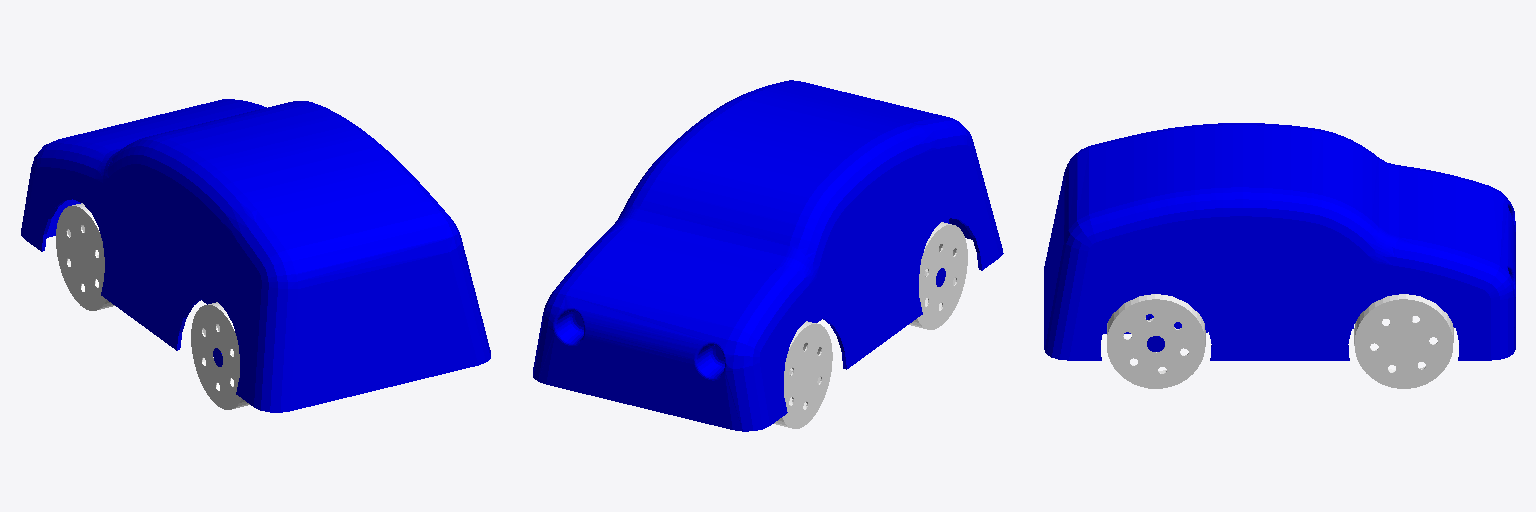
The robot description file, URDF, robot "robot_car":
<?xml version="1.0" encoding="utf-8"?>
<!-- This URDF was automatically created by SolidWorks to URDF Exporter! Originally created by [author] ([email redacted]) 
     Commit Version: 1.6.0-4-g7f85cfe  Build Version: 1.6.7995.38578
     For more information, please see http://wiki.ros.org/sw_urdf_exporter -->
<robot
  name="robot_car">

  <link name="dummy_link" />

  <joint name="dummy_link_joint=" type="fixed">
    <origin
      xyz="0 0 0"
      rpy="0 0 0" />
    <parent link="dummy_link"/>
    <child link="base_link"/>
  </joint>

  <link
    name="base_link">
    <inertial>
      <origin
        xyz="-4.17816467845711E-06 0.155033500569797 0.0634993481602697"
        rpy="0 0 0" />
      <mass
        value="47.0663452295482" />
      <inertia
        ixx="4.22292908692067"
        ixy="-3.82540713050327E-05"
        ixz="2.17423066283378E-05"
        iyy="0.534699589034657"
        iyz="0.0172908433530719"
        izz="4.57389499567577" />
    </inertial>
    <visual>
      <origin
        xyz="0 0 0"
        rpy="0 0 0" />
      <geometry>
        <mesh
          filename="package://robot_car/meshes/base_link.STL" />
      </geometry>
      <material
        name="">
        <color
          rgba="0.0 0.0 1 1" />
      </material>
    </visual>
    <collision>
      <origin
        xyz="0 0 0"
        rpy="0 0 0" />
      <geometry>
        <mesh
          filename="package://robot_car/meshes/base_link.STL" />
      </geometry>
    </collision>
  </link>
  <link
    name="r_axle_link">
    <inertial>
      <origin
        xyz="0.044591 3.0732E-09 -0.044308"
        rpy="0 0 0" />
      <mass
        value="0.54732" />
      <inertia
        ixx="0.00019657"
        ixy="1.012E-10"
        ixz="0.00015844"
        iyy="0.0011746"
        iyz="-1.0367E-11"
        izz="0.0010774" />
    </inertial>
    <visual>
      <origin
        xyz="0 0 0"
        rpy="0 0 0" />
      <geometry>
        <mesh
          filename="package://robot_car/meshes/r_axle_link.STL" />
      </geometry>
      <material
        name="">
        <color
          rgba="1 1 1 1" />
      </material>
    </visual>
    <collision>
      <origin
        xyz="0 0 0"
        rpy="0 0 0" />
      <geometry>
        <mesh
          filename="package://robot_car/meshes/r_axle_link.STL" />
      </geometry>
    </collision>
  </link>
  <joint
    name="r_axle_joint"
    type="revolute">
    <origin
      xyz="0.1016 0.43592 0.0762"
      rpy="0 0 0" />
    <parent
      link="base_link" />
    <child
      link="r_axle_link" />
    <axis
      xyz="0 0 1" />
    <limit
      lower="-0.61"
      upper="0.61"
      effort="1000"
      velocity="0.5" />
  </joint>
  <link
    name="fr_wheel_link">
    <inertial>
      <origin
        xyz="5.5511E-17 2.4286E-17 -0.030426"
        rpy="0 0 0" />
      <mass
        value="1.0025" />
      <inertia
        ixx="0.0043607"
        ixy="-1.124E-18"
        ixz="8.2114E-19"
        iyy="0.0043607"
        iyz="-5.2661E-19"
        izz="0.0075093" />
    </inertial>
    <visual>
      <origin
        xyz="0 0 0"
        rpy="0 0 0" />
      <geometry>
        <mesh
          filename="package://robot_car/meshes/fr_wheel_link.STL" />
      </geometry>
      <material
        name="">
        <color
          rgba="1 1 1 1" />
      </material>
    </visual>
    <collision>
      <origin
        xyz="0 0 0"
        rpy="0 0 0" />
      <geometry>
        <mesh
          filename="package://robot_car/meshes/fr_wheel_link.STL" />
      </geometry>
    </collision>
  </link>
  <joint
    name="fr_wheel_joint"
    type="continuous">
    <origin
      xyz="0.127 0 -0.0508"
      rpy="1.5708 0 1.5708" />
    <parent
      link="r_axle_link" />
    <child
      link="fr_wheel_link" />
    <axis
      xyz="0 0 1" />
    <limit
      effort="1"
      velocity="1000" />
  </joint>
  <link
    name="l_axle_link">
    <inertial>
      <origin
        xyz="-0.0445911447038466 -3.07316860848061E-09 -0.0443082836786182"
        rpy="0 0 0" />
      <mass
        value="0.547317633847802" />
      <inertia
        ixx="0.000196574365269895"
        ixy="1.01203737038273E-10"
        ixz="-0.000158436445636198"
        iyy="0.0011746456902795"
        iyz="1.03666036366386E-11"
        izz="0.00107738190106747" />
    </inertial>
    <visual>
      <origin
        xyz="0 0 0"
        rpy="0 0 0" />
      <geometry>
        <mesh
          filename="package://robot_car/meshes/l_axle_link.STL" />
      </geometry>
      <material
        name="">
        <color
          rgba="1 1 1 1" />
      </material>
    </visual>
    <collision>
      <origin
        xyz="0 0 0"
        rpy="0 0 0" />
      <geometry>
        <mesh
          filename="package://robot_car/meshes/l_axle_link.STL" />
      </geometry>
    </collision>
  </link>
  <joint
    name="l_axle_joint"
    type="revolute">
    <origin
      xyz="-0.1016 0.43592 0.0762"
      rpy="0 0 0" />
    <parent
      link="base_link" />
    <child
      link="l_axle_link" />
    <axis
      xyz="0 0 1" />
    <limit
      lower="-0.61"
      upper="0.61"
      effort="1000"
      velocity="0.5" />
  </joint>
  <link
    name="fl_wheel_link">
    <inertial>
      <origin
        xyz="-1.66533453693773E-16 -6.93889390390723E-18 -0.0304263623336742"
        rpy="0 0 0" />
      <mass
        value="1.00248274433347" />
      <inertia
        ixx="0.0043607050487617"
        ixy="-8.55490495270943E-20"
        ixz="-3.06179300718463E-19"
        iyy="0.0043607050487617"
        iyz="3.75228321009424E-20"
        izz="0.00750931140654651" />
    </inertial>
    <visual>
      <origin
        xyz="0 0 0"
        rpy="0 0 0" />
      <geometry>
        <mesh
          filename="package://robot_car/meshes/fl_wheel_link.STL" />
      </geometry>
      <material
        name="">
        <color
          rgba="1 1 1 1" />
      </material>
    </visual>
    <collision>
      <origin
        xyz="0 0 0"
        rpy="0 0 0" />
      <geometry>
        <mesh
          filename="package://robot_car/meshes/fl_wheel_link.STL" />
      </geometry>
    </collision>
  </link>
  <joint
    name="fl_wheel_joint"
    type="continuous">
    <origin
      xyz="-0.127 0 -0.0508"
      rpy="1.5708 0 -1.5708" />
    <parent
      link="l_axle_link" />
    <child
      link="fl_wheel_link" />
    <axis
      xyz="0 0 1" />
    <limit
      effort="1"
      velocity="1000" />
  </joint>
  <link
    name="rl_wheel_link">
    <inertial>
      <origin
        xyz="0 3.46944695195361E-18 -0.0304263623336755"
        rpy="0 0 0" />
      <mass
        value="1.00248274433346" />
      <inertia
        ixx="0.00436070504876117"
        ixy="1.25628055531491E-19"
        ixz="1.66648897421017E-19"
        iyy="0.00436070504876117"
        iyz="2.6082222710412E-20"
        izz="0.0075093114065465" />
    </inertial>
    <visual>
      <origin
        xyz="0 0 0"
        rpy="0 0 0" />
      <geometry>
        <mesh
          filename="package://robot_car/meshes/rl_wheel_link.STL" />
      </geometry>
      <material
        name="">
        <color
          rgba="1 1 1 1" />
      </material>
    </visual>
    <collision>
      <origin
        xyz="0 0 0"
        rpy="0 0 0" />
      <geometry>
        <mesh
          filename="package://robot_car/meshes/rl_wheel_link.STL" />
      </geometry>
    </collision>
  </link>
  <joint
    name="rl_wheel_joint"
    type="continuous">
    <origin
      xyz="-0.2286 -0.072078 0.0254"
      rpy="1.5708 0 -1.5708" />
    <parent
      link="base_link" />
    <child
      link="rl_wheel_link" />
    <axis
      xyz="0 0 1" />
    <limit
      effort="1"
      velocity="1000" />
  </joint>
  <link
    name="rr_wheel_link">
    <inertial>
      <origin
        xyz="0 6.93889390390723E-18 -0.0304263623336748"
        rpy="0 0 0" />
      <mass
        value="1.00248274433347" />
      <inertia
        ixx="0.00436070504876132"
        ixy="2.78391771057784E-18"
        ixz="-7.84595195846635E-19"
        iyy="0.00436070504876133"
        iyz="-8.62640522217282E-19"
        izz="0.00750931140654648" />
    </inertial>
    <visual>
      <origin
        xyz="0 0 0"
        rpy="0 0 0" />
      <geometry>
        <mesh
          filename="package://robot_car/meshes/rr_wheel_link.STL" />
      </geometry>
      <material
        name="">
        <color
          rgba="1 1 1 1" />
      </material>
    </visual>
    <collision>
      <origin
        xyz="0 0 0"
        rpy="0 0 0" />
      <geometry>
        <mesh
          filename="package://robot_car/meshes/rr_wheel_link.STL" />
      </geometry>
    </collision>
  </link>
  <joint
    name="rr_wheel_joint"
    type="continuous">
    <origin
      xyz="0.2286 -0.072078 0.0254"
      rpy="1.5708 0 1.5708" />
    <parent
      link="base_link" />
    <child
      link="rr_wheel_link" />
    <axis
      xyz="0 0 -1" />
    <limit
      effort="1"
      velocity="1000" />
  </joint>


  <transmission name="fr_trans">
    <type>transmission_interface/SimpleTransmission</type>
    <joint name="r_axle_joint">
      <hardwareInterface>hardware_interface/EffortJointInterface</hardwareInterface>
    </joint>
    <actuator name="fr_steering">
      <mechanicalReduction>50</mechanicalReduction>
      <hardwareInterface>hardware_interface/EffortJointInterface</hardwareInterface>
    </actuator>
  </transmission>
  
  <transmission name="fl_trans">
    <type>transmission_interface/SimpleTransmission</type>
    <joint name="l_axle_joint">
      <hardwareInterface>hardware_interface/EffortJointInterface</hardwareInterface>
    </joint>
    <actuator name="fl_steering">
      <mechanicalReduction>50</mechanicalReduction>
      <hardwareInterface>hardware_interface/EffortJointInterface</hardwareInterface>
    </actuator>
  </transmission>
  
  <transmission name="rr_trans">
    <type>transmission_interface/SimpleTransmission</type>
    <joint name="rr_wheel_joint">
      <hardwareInterface>hardware_interface/VelocityJointInterface</hardwareInterface>
    </joint>
    <actuator name="rr_wheel">
      <mechanicalReduction>50</mechanicalReduction>
      <hardwareInterface>hardware_interface/VelocityJointInterface</hardwareInterface>
    </actuator>
  </transmission>
  
  <transmission name="rl_trans">
    <type>transmission_interface/SimpleTransmission</type>
    <joint name="rl_wheel_joint">
      <hardwareInterface>hardware_interface/VelocityJointInterface</hardwareInterface>
    </joint>
    <actuator name="rl_wheel">
      <mechanicalReduction>50</mechanicalReduction>
      <hardwareInterface>hardware_interface/VelocityJointInterface</hardwareInterface>
    </actuator>
  </transmission>
</robot>

--- Render facts (derived) ---
Views: 3 orthographic renders of the robot side by side, from view 1: azimuth 30°, elevation 25°; view 2: azimuth 150°, elevation 25°; view 3: azimuth 270°, elevation 25°.
Robot: robot_car — 8 links, 7 joints (2 revolute, 4 continuous, 1 fixed); root link dummy_link; default pose: all joints at 0.
Visible links, largest first — view 1: base_link, rl_wheel_link, fl_wheel_link; view 2: base_link, rl_wheel_link, fl_wheel_link; view 3: base_link, fr_wheel_link, rr_wheel_link.
Link boxes in pixels (x1,y1,x2,y2): base_link: [21, 99, 490, 412]; rl_wheel_link: [191, 302, 249, 409]; fl_wheel_link: [56, 203, 114, 310]; base_link: [533, 80, 1003, 431]; rl_wheel_link: [909, 222, 967, 329]; fl_wheel_link: [774, 321, 832, 428]; base_link: [1044, 123, 1515, 360]; fr_wheel_link: [1354, 294, 1453, 388]; rr_wheel_link: [1107, 294, 1205, 388].
Bounding box of the posed robot: 0.508 × 0.9652 × 0.4198 m (x, y, z).
7 mesh visuals loaded from 7 distinct referenced files (7 binary STL).
